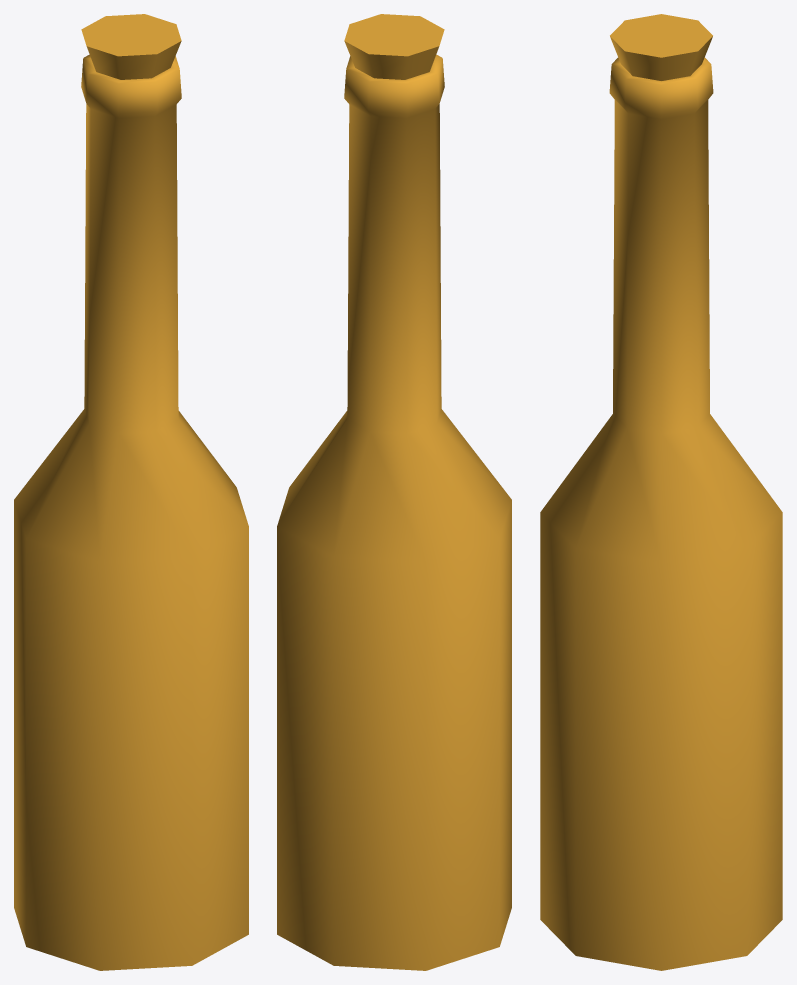
The model's file is botella.fbx.
3 renders of one model, left to right at view 1: azimuth 30°, elevation 25°; view 2: azimuth 150°, elevation 25°; view 3: azimuth 270°, elevation 25°, orthographic.
Visible parts, largest first — view 1: Cylinder; view 2: Cylinder; view 3: Cylinder.
Part boxes in pixels (<box>): Cylinder: <box>14,14,248,970</box>; Cylinder: <box>277,14,511,970</box>; Cylinder: <box>540,14,782,970</box>.
Size of the model in its own units: 2.98 by 12 by 2.98.
